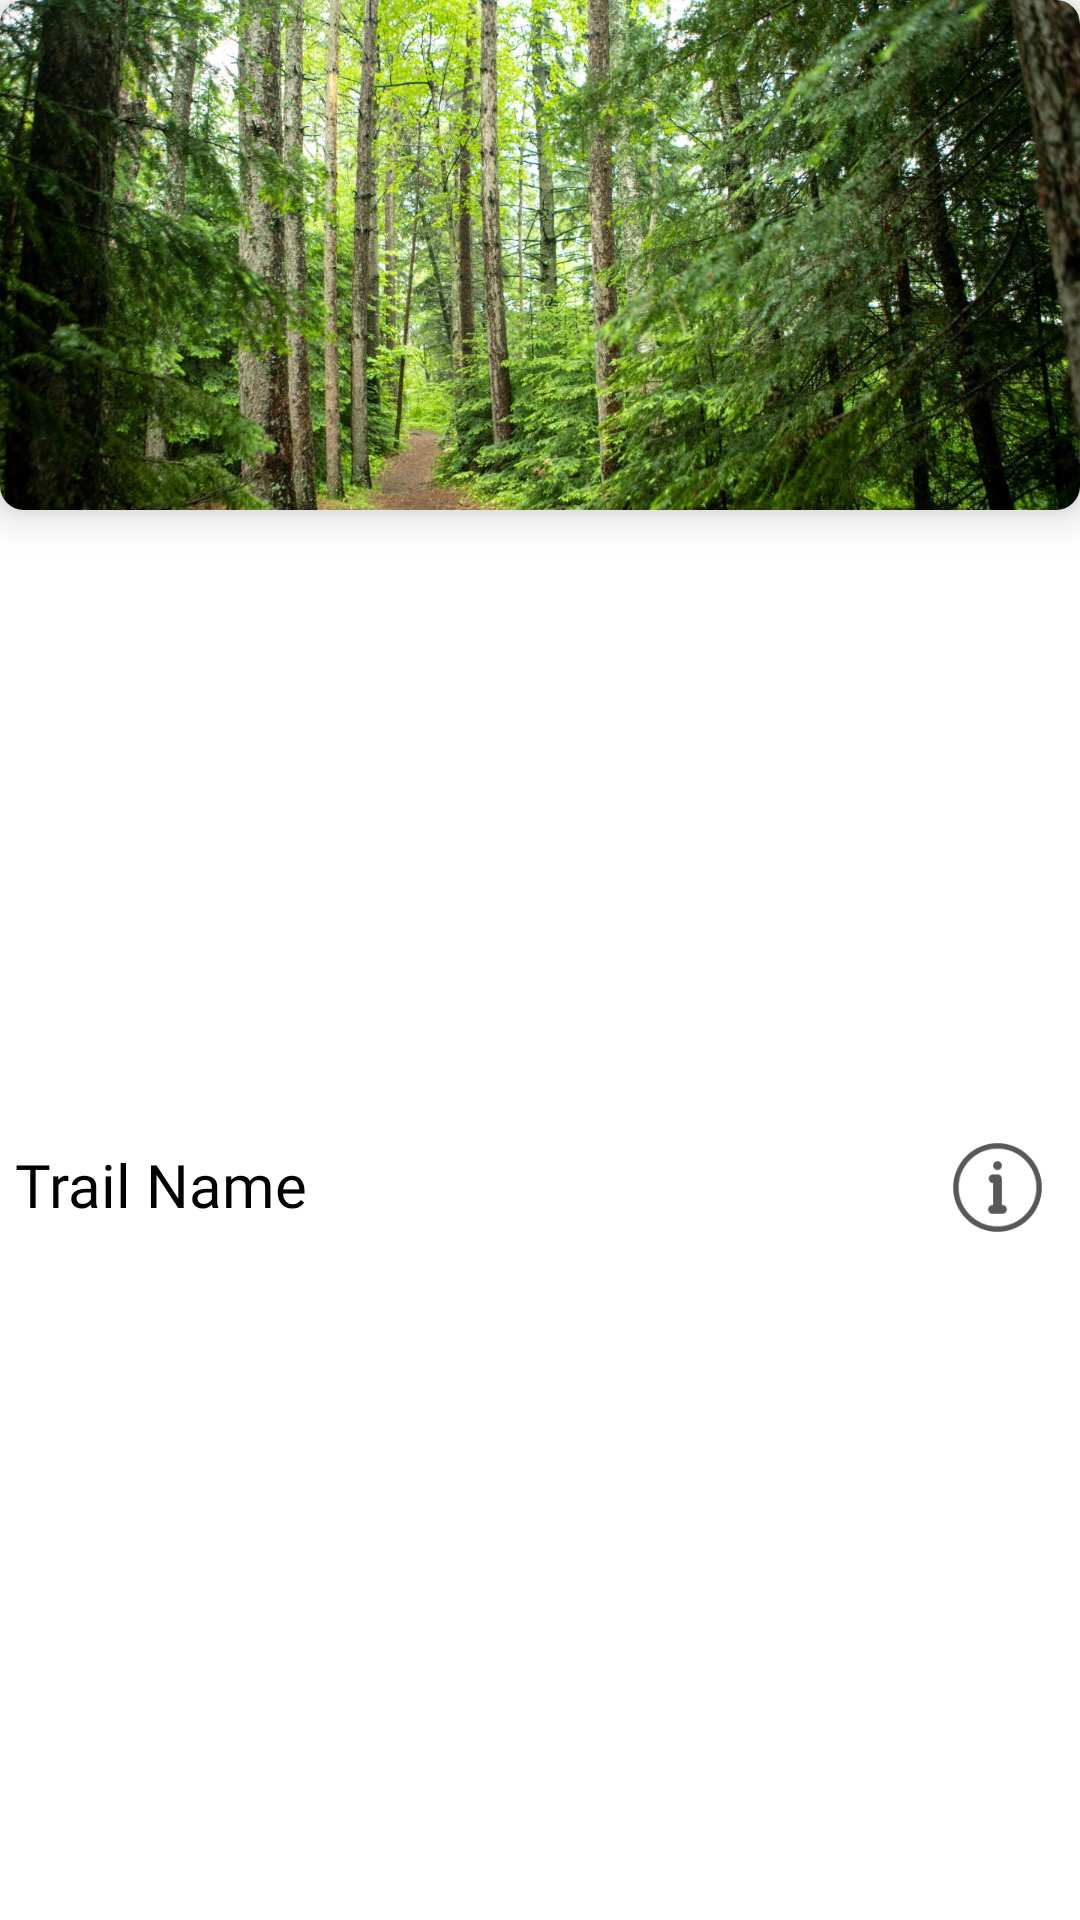

Icon click points for this 1080 x 1920 phone screenshot, format point (x, y):
info: point (997, 1187)
